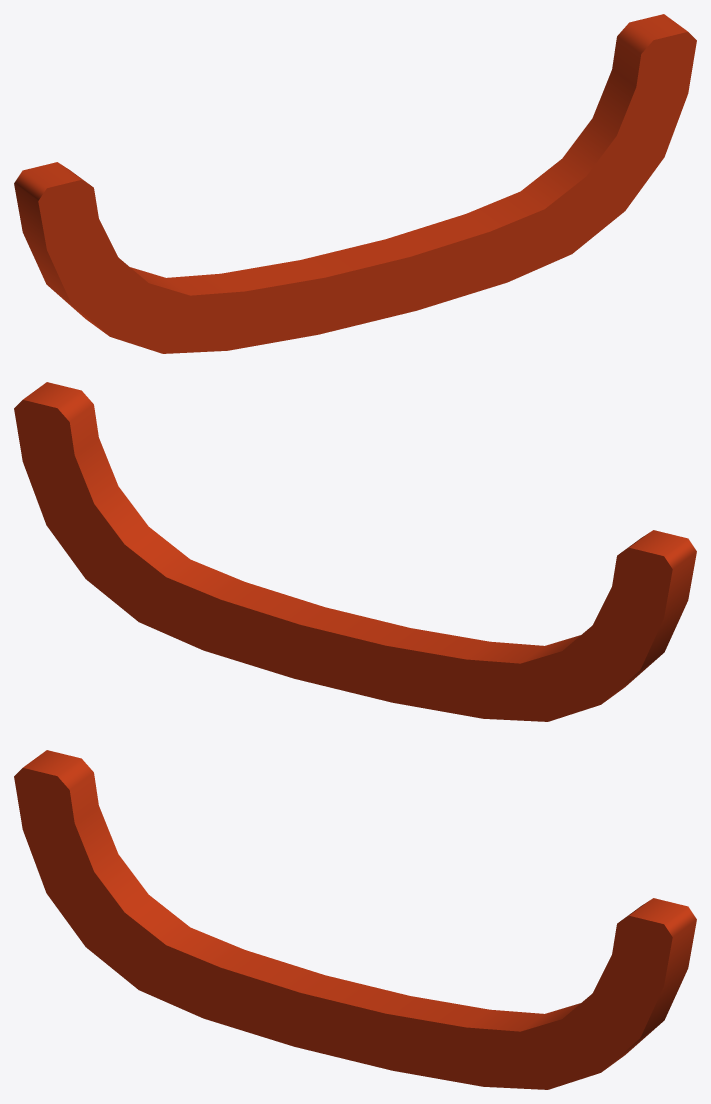
File: Container_03_Handle.fbx
3 views of the same model, one above another, from view 1: azimuth 30°, elevation 25°; view 2: azimuth 150°, elevation 25°; view 3: azimuth 330°, elevation 25° (orthographic).
Parts seen in each view (by area): view 1: Container_03_Handle; view 2: Container_03_Handle; view 3: Container_03_Handle.
Part boxes in pixels (<box>): Container_03_Handle: <box>14,14,696,353</box>; Container_03_Handle: <box>14,382,696,721</box>; Container_03_Handle: <box>14,750,696,1089</box>.
Bounding box in the file's own units: 25.97 × 8.02 × 1.66.
